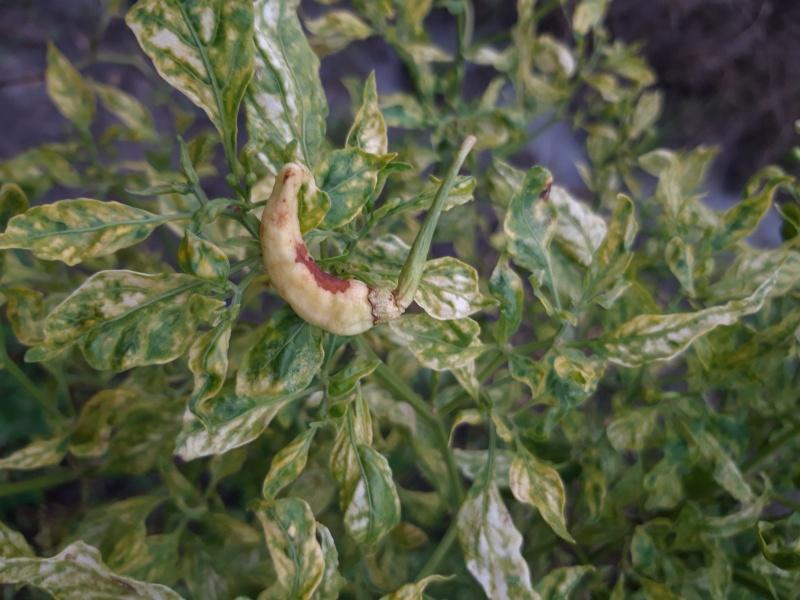antraknosa: (259, 161, 395, 337)
